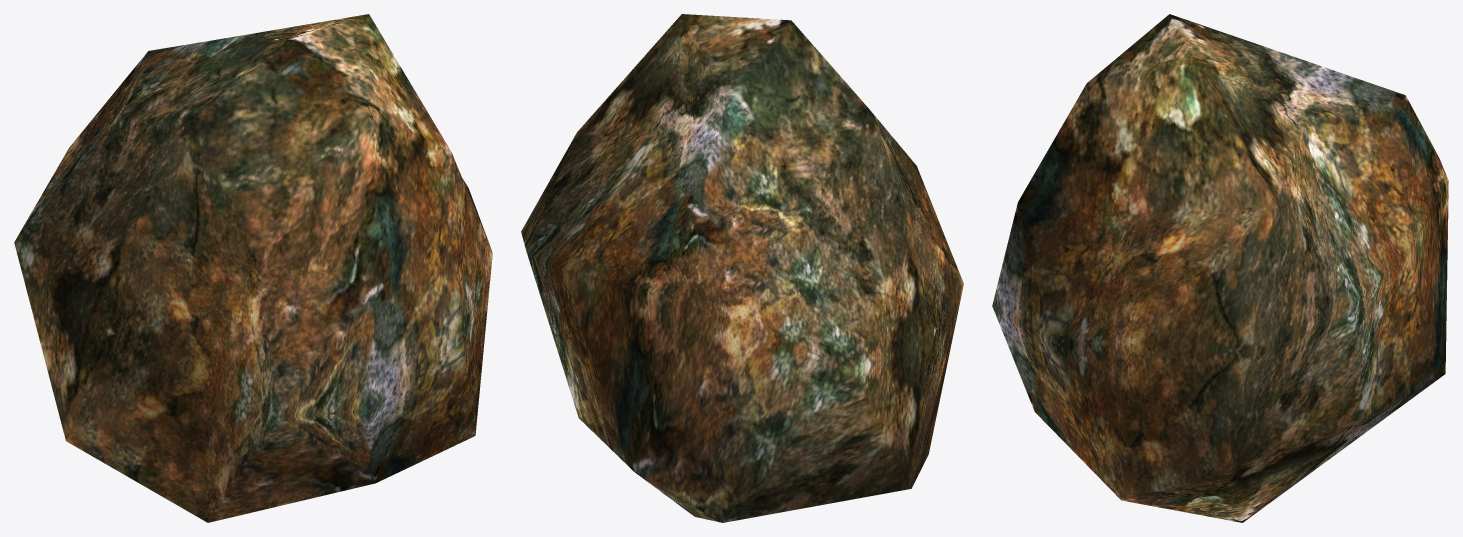
Rendered from c_stone09.glb.
The picture shows the model from 3 angles, left to right: view 1: azimuth 30°, elevation 25°; view 2: azimuth 150°, elevation 25°; view 3: azimuth 270°, elevation 25°; orthographic projection.
Parts seen in each view (by area): view 1: c_stone09-col; view 2: c_stone09-col; view 3: c_stone09-col.
Part boxes in pixels (x1,y1,x2,y2): c_stone09-col: (14, 14, 492, 522); c_stone09-col: (521, 14, 963, 522); c_stone09-col: (992, 14, 1448, 522).
Size of the model in its own units: 0.3916 by 0.4591 by 0.3957.
1 material, 1 textured.
